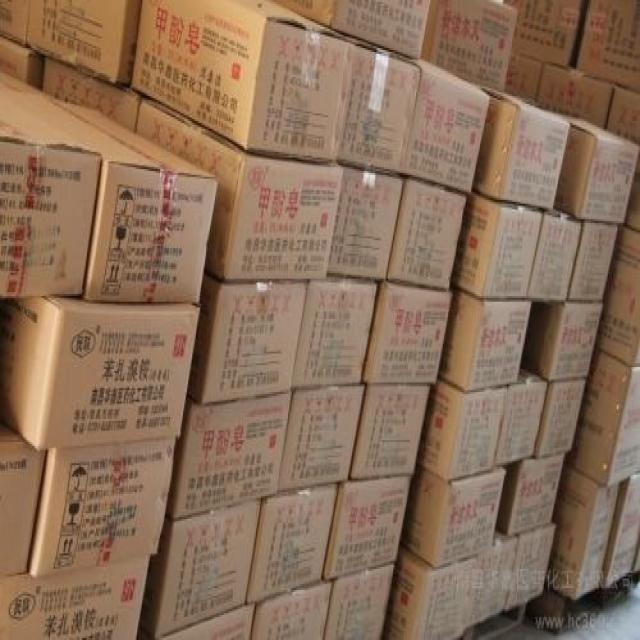box: (24, 92, 219, 303), (135, 96, 343, 282), (130, 0, 353, 163), (0, 295, 200, 450), (1, 90, 102, 298), (27, 437, 175, 578), (139, 498, 262, 638), (166, 392, 292, 521), (188, 272, 308, 405), (0, 555, 150, 638), (471, 85, 570, 210), (401, 58, 490, 193), (336, 37, 422, 175), (400, 463, 506, 569), (246, 483, 339, 603), (544, 110, 639, 224), (564, 345, 639, 489), (545, 461, 621, 600), (438, 283, 533, 391), (450, 189, 543, 298), (291, 275, 378, 390), (361, 279, 453, 385), (27, 0, 141, 85), (416, 377, 508, 482), (386, 173, 467, 290), (277, 385, 366, 491), (323, 476, 411, 583), (381, 544, 477, 638), (327, 165, 404, 281), (420, 0, 518, 91), (349, 385, 431, 478), (0, 419, 47, 577), (42, 56, 142, 130), (594, 224, 639, 366), (497, 452, 565, 537), (531, 302, 603, 382), (465, 525, 519, 630), (493, 365, 549, 466), (576, 0, 639, 88), (526, 208, 583, 303), (535, 62, 615, 129), (503, 0, 584, 66), (324, 563, 395, 638), (250, 578, 333, 638), (504, 522, 556, 611), (601, 473, 639, 588), (534, 378, 586, 459), (567, 221, 619, 301), (154, 603, 256, 638), (0, 35, 44, 89), (505, 52, 544, 106), (606, 83, 639, 144), (0, 0, 27, 46)
